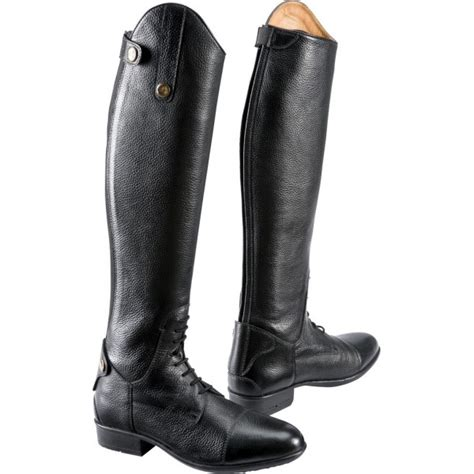cuero: (93, 3, 383, 469)
